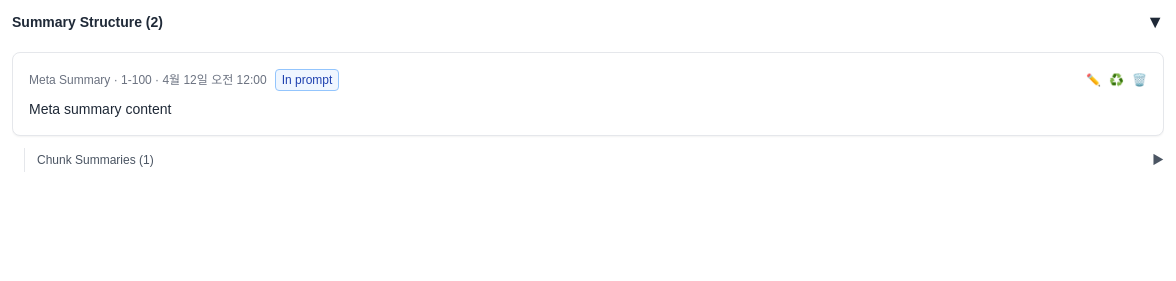
it: SummaryMemoryTreeSection interactions › reveals covered child chunks when their meta parent is expanded
Expected: the text "Covered child content" is not shown
Click the button "Chunk Summaries (1) ▶": [90, 160] box [37, 148, 1164, 172]
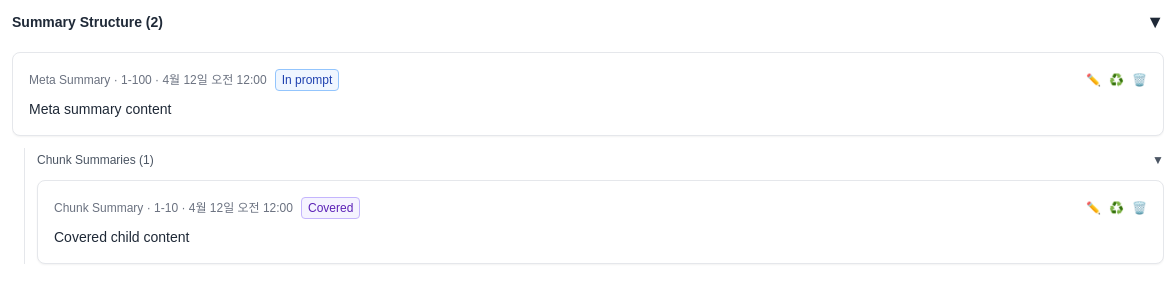
Expected: the button "Chunk Summaries (1) ▼" is expanded, [37, 148, 1164, 172]
Expected: the text "Covered child content" is shown, [54, 229, 189, 245]
Expected: the text "Covered" is shown, [301, 197, 360, 219]
